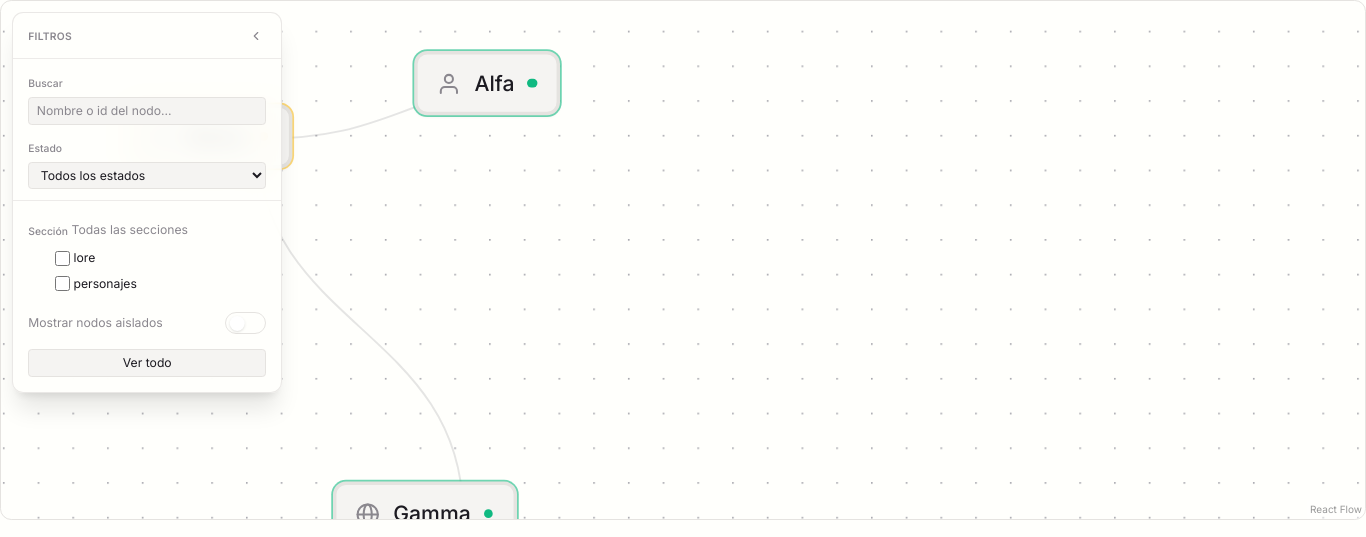
Test case: GraphView › isolates a neighbourhood and leaves it with Escape
Click the text "Alfa" at (494, 83), box [474,68,514,99]
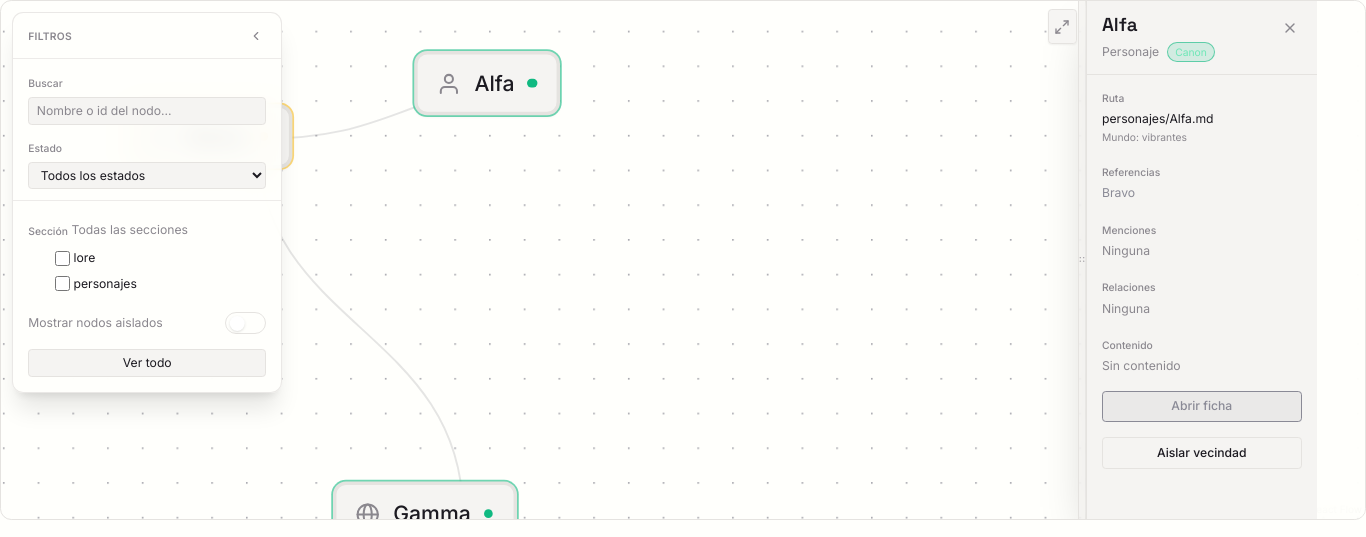
Click the button with test id "isolate-neighborhood" at (1202, 453), box [1102,437,1302,469]
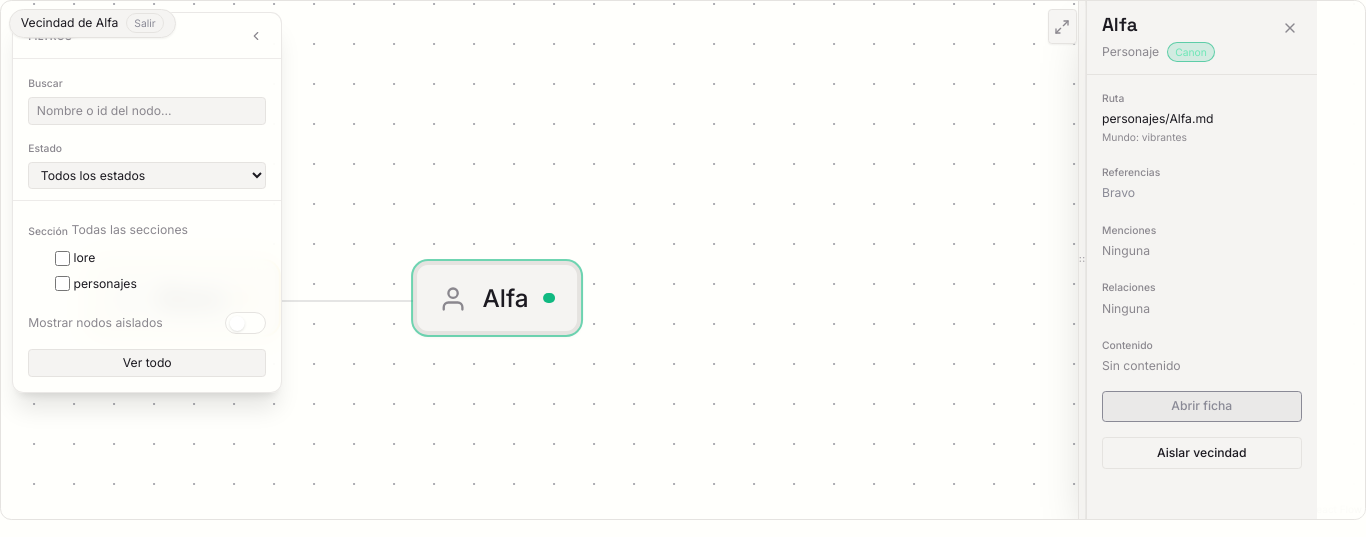
Now the element with test id "isolation-pill" is shown, box [8,8,176,38]
Press Escape
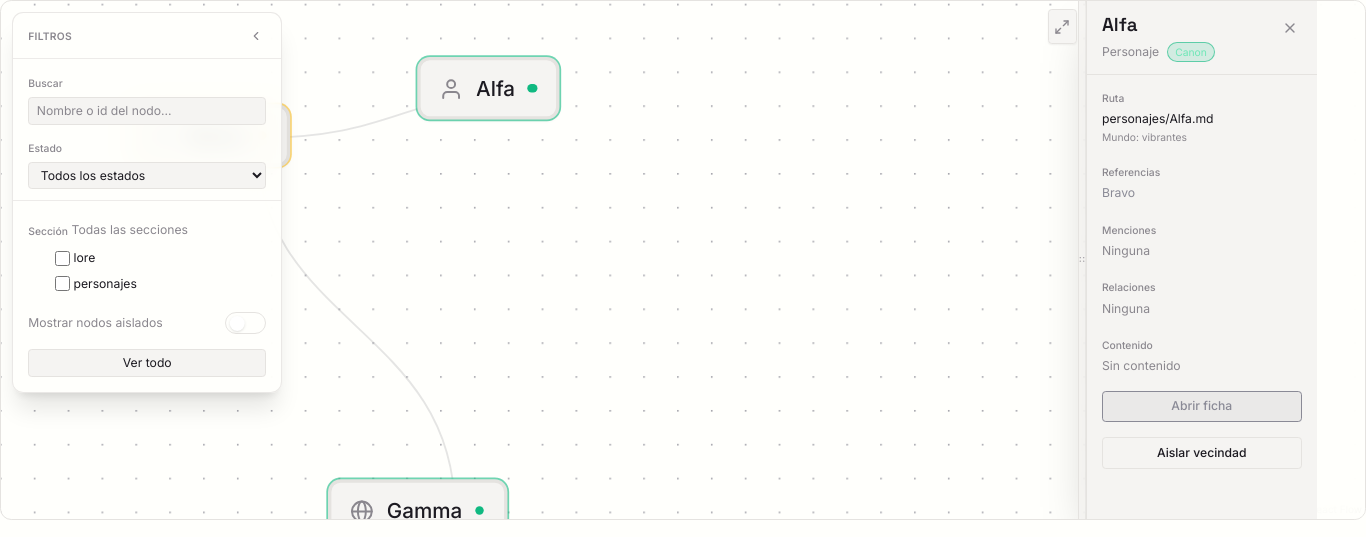
Now the element with test id "isolation-pill" is gone
